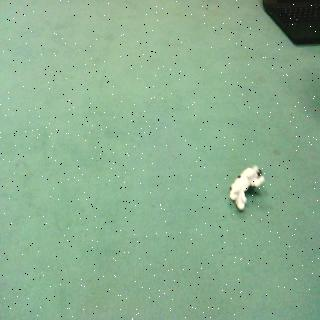dog: (226, 161, 266, 219)
